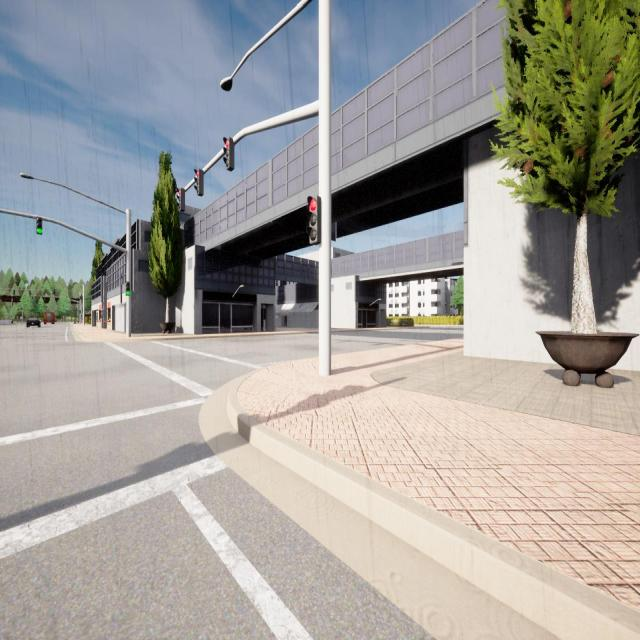Vehicle: (43, 311, 55, 324), (27, 316, 40, 328)
traffic_light: (307, 196, 321, 245), (223, 137, 234, 172), (194, 169, 204, 196), (177, 188, 186, 212), (36, 217, 42, 234), (126, 282, 130, 296), (13, 290, 15, 295), (29, 291, 30, 295), (81, 295, 82, 299), (80, 296, 81, 299)
